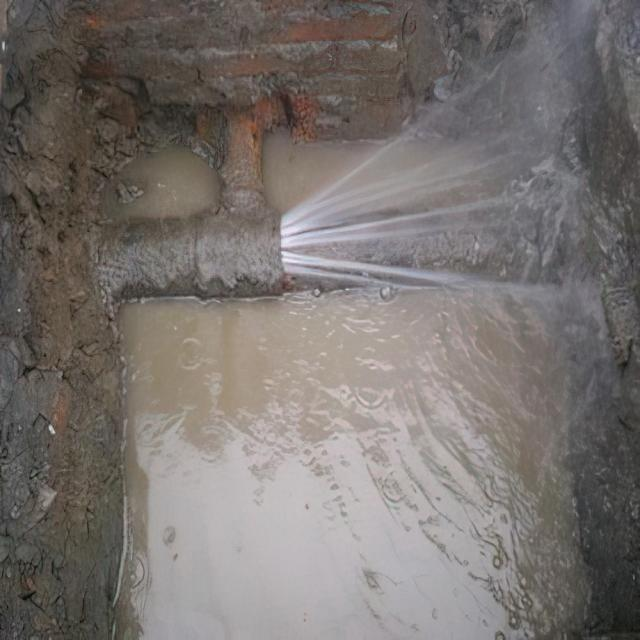leak: (280, 42, 570, 288)
